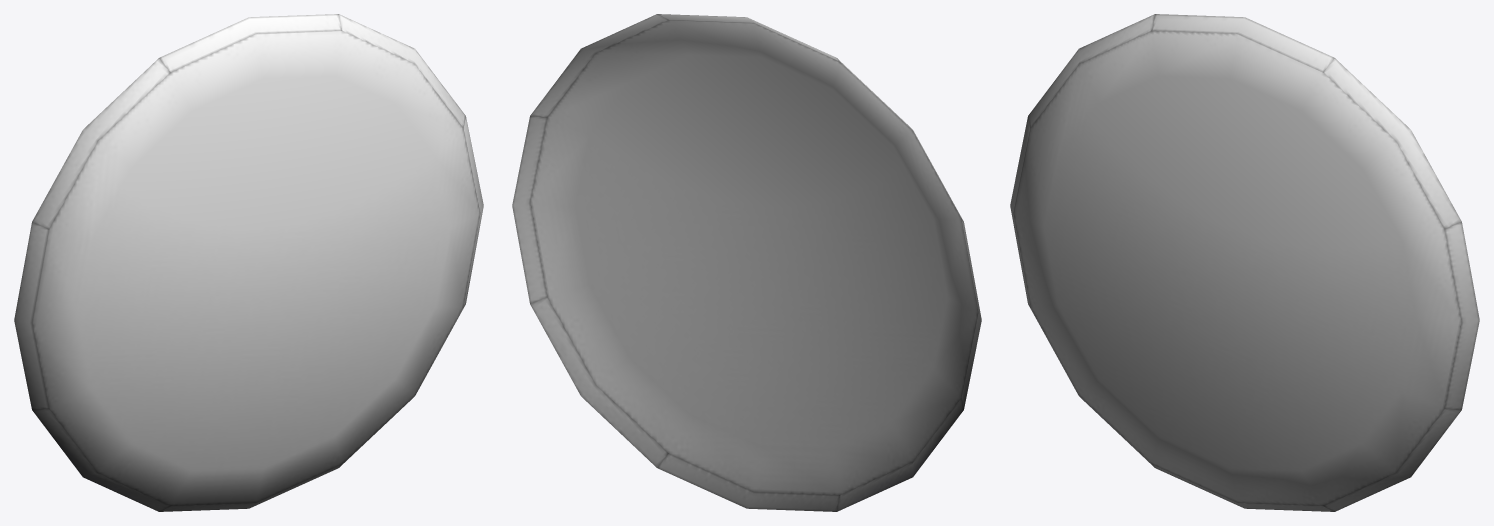
Rendered from button.obj.
The picture shows the model from 3 angles, left to right: view 1: azimuth 30°, elevation 25°; view 2: azimuth 150°, elevation 25°; view 3: azimuth 330°, elevation 25°; orthographic projection.
Parts seen in each view (by area): view 1: button003; view 2: button003; view 3: button003.
Boxes of the visible parts, x1,y1,x2,y2 form: button003: [14, 14, 483, 511]; button003: [512, 14, 981, 511]; button003: [1010, 14, 1479, 511].
Size of the model in its own units: 55.66 by 55.66 by 2.99.
Materials: 1 (1 with a texture image).
